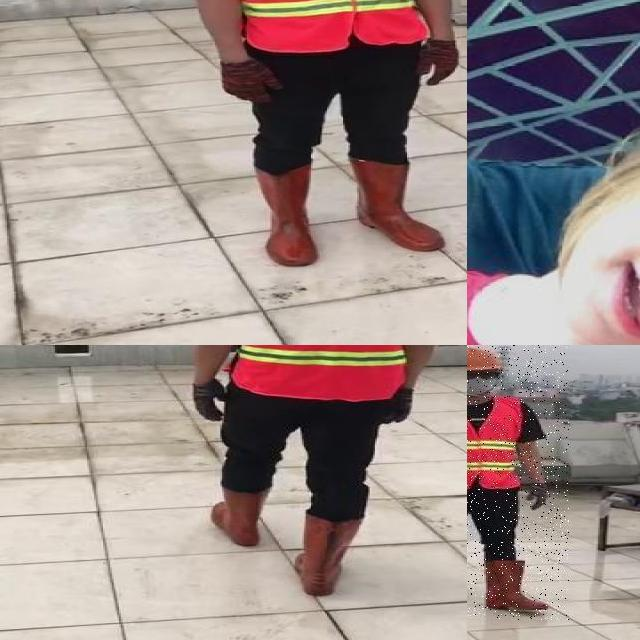boots: (348, 155, 444, 251), (254, 163, 316, 266), (292, 514, 366, 597), (208, 484, 268, 547), (488, 562, 556, 612)
face_nomask: (582, 178, 640, 345)
hand_glove: (192, 380, 227, 420), (380, 388, 414, 423)
head_helmet: (467, 345, 509, 374)
person: (169, 0, 467, 269), (185, 345, 454, 604), (467, 345, 569, 620)
vest: (240, 345, 432, 398), (232, 0, 421, 49), (467, 397, 521, 492)
